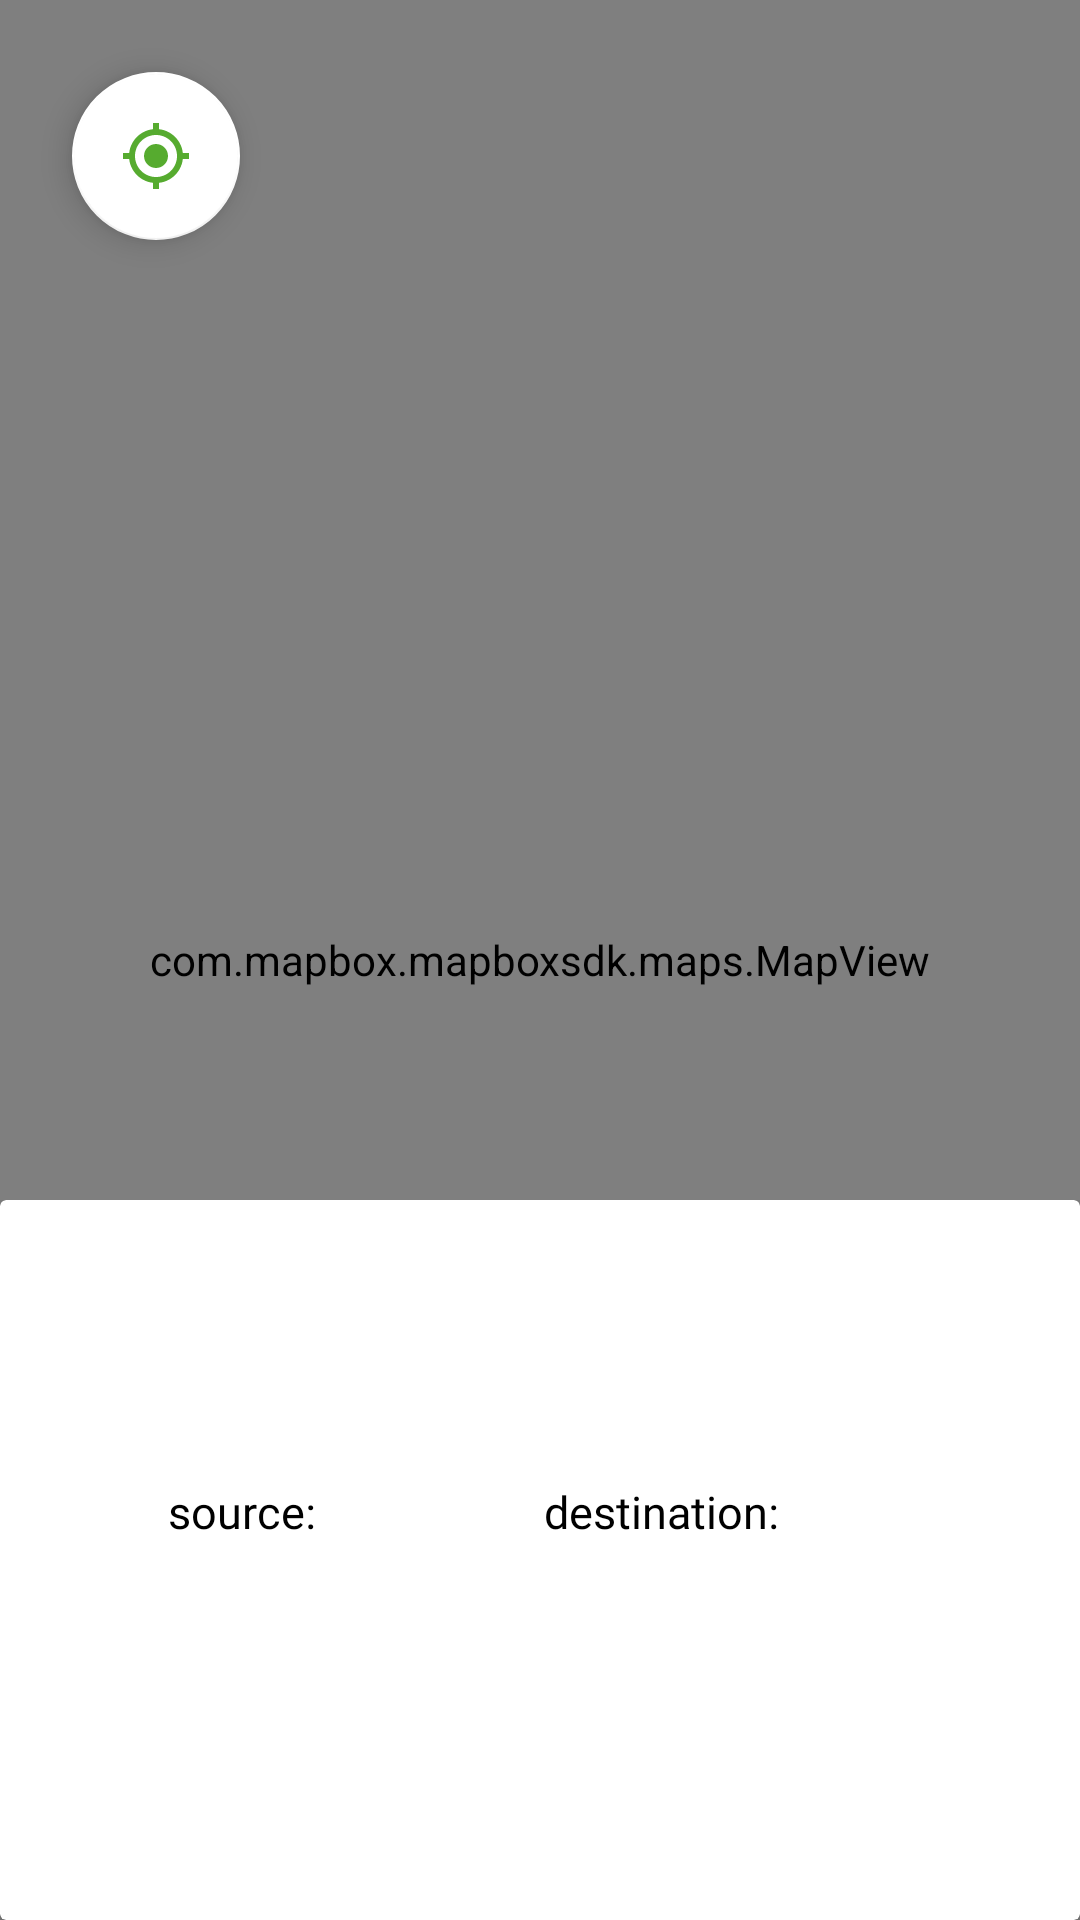

Where icons sit on this 1080px x 1920px app screen, as (x1, y1, x2, y2):
location: (72, 72, 240, 240)
